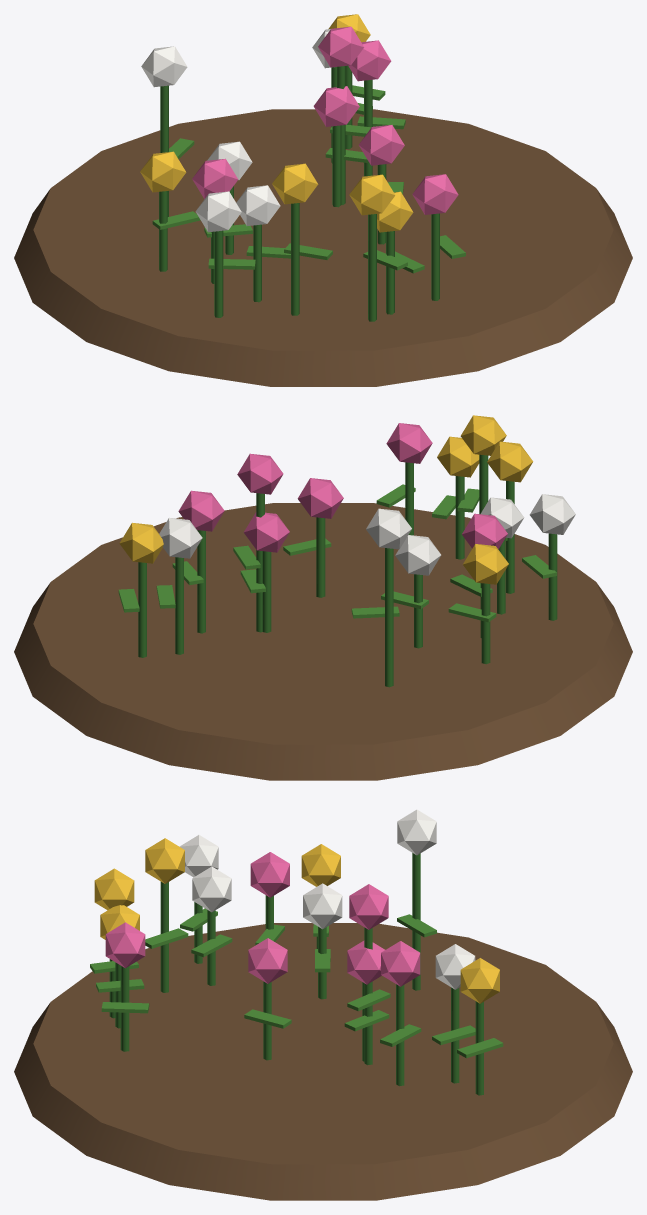
The model's file is flower_patch_01.glb.
The picture shows the model from 3 angles, top to bottom: view 1: azimuth 30°, elevation 25°; view 2: azimuth 150°, elevation 25°; view 3: azimuth 270°, elevation 25°; orthographic projection.
Visible parts, largest first — view 1: flower_patch_01_soil, flower_patch_01_foliage (×2), flower_patch_01_flower_pink, flower_patch_01_flower_yellow, flower_patch_01_flower_white; view 2: flower_patch_01_soil, flower_patch_01_foliage (×2), flower_patch_01_flower_pink, flower_patch_01_flower_yellow, flower_patch_01_flower_white; view 3: flower_patch_01_soil, flower_patch_01_foliage (×2), flower_patch_01_flower_pink, flower_patch_01_flower_white, flower_patch_01_flower_yellow.
Part boxes in pixels (bbox=[...]): flower_patch_01_soil: bbox=[14, 109, 632, 386]; flower_patch_01_foliage (×2): bbox=[152, 65, 465, 321]; flower_patch_01_flower_pink: bbox=[192, 26, 458, 214]; flower_patch_01_flower_yellow: bbox=[140, 14, 413, 232]; flower_patch_01_flower_white: bbox=[141, 29, 334, 232]; flower_patch_01_soil: bbox=[14, 503, 632, 780]; flower_patch_01_foliage (×2): bbox=[118, 454, 557, 687]; flower_patch_01_flower_pink: bbox=[178, 423, 507, 552]; flower_patch_01_flower_yellow: bbox=[119, 415, 533, 584]; flower_patch_01_flower_white: bbox=[159, 494, 575, 575]; flower_patch_01_soil: bbox=[14, 923, 632, 1200]; flower_patch_01_foliage (×2): bbox=[90, 853, 503, 1095]; flower_patch_01_flower_pink: bbox=[105, 852, 420, 986]; flower_patch_01_flower_white: bbox=[179, 809, 475, 989]; flower_patch_01_flower_yellow: bbox=[94, 838, 499, 1003].
Bounding box in the file's own units: 1.58 × 0.5771 × 1.6.
